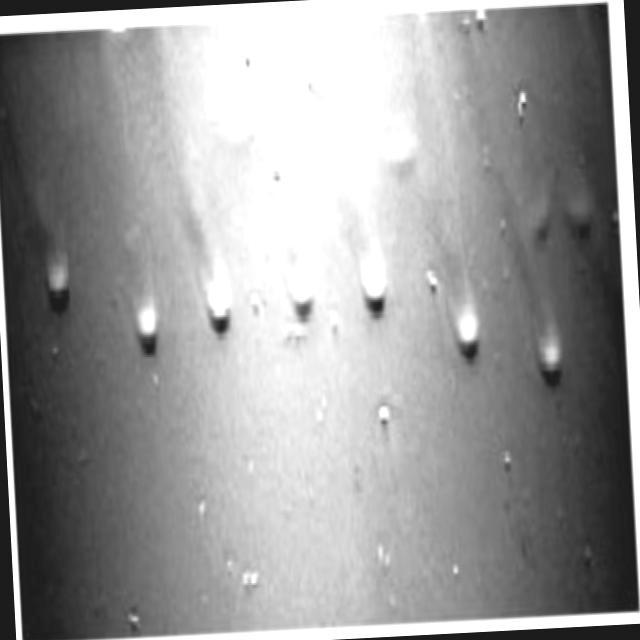paint drips: (420, 21, 626, 426), (11, 47, 248, 390), (255, 31, 427, 366)
